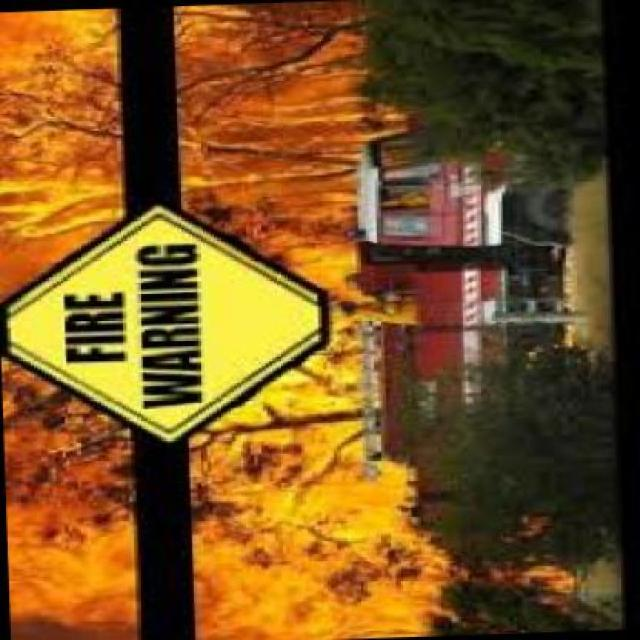Fire: (205, 426, 438, 640), (172, 4, 360, 250), (2, 373, 136, 632), (0, 11, 116, 243)
